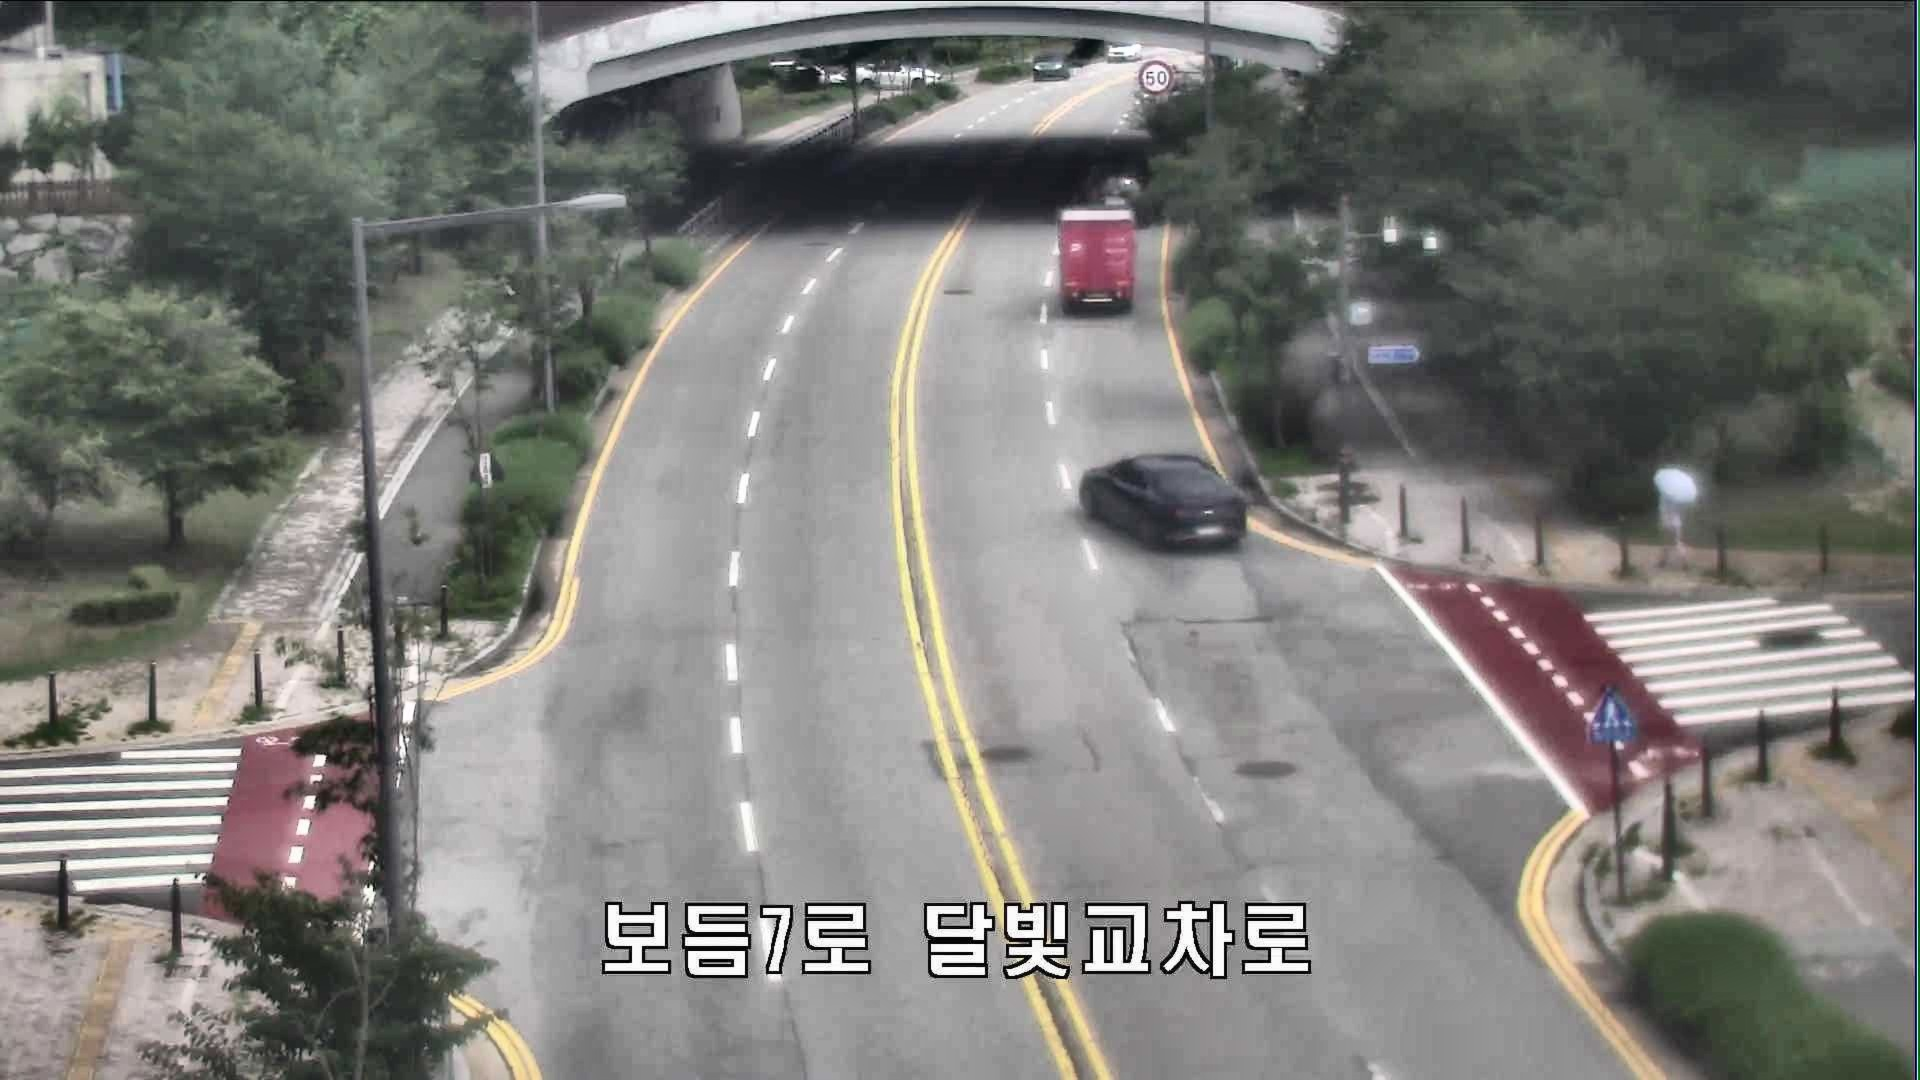um_sidewalk: (1651, 465, 1705, 578)
